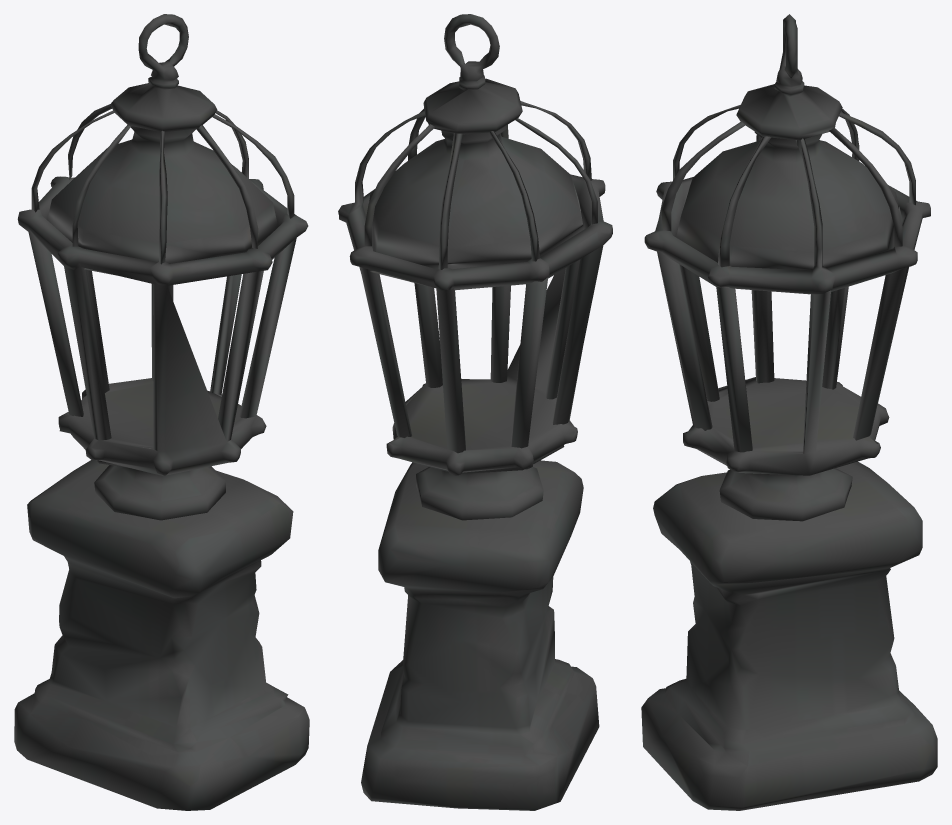
File: wyn_quest_grave_lamp_unlit.glb
3 renders of one model, left to right at view 1: azimuth 30°, elevation 25°; view 2: azimuth 150°, elevation 25°; view 3: azimuth 270°, elevation 25°, orthographic.
Visible parts, largest first — view 1: tripo_node_2daae766-3ae1-4ab7-aa46-2138248c43f9; view 2: tripo_node_2daae766-3ae1-4ab7-aa46-2138248c43f9; view 3: tripo_node_2daae766-3ae1-4ab7-aa46-2138248c43f9.
Part boxes in pixels (<box>): tripo_node_2daae766-3ae1-4ab7-aa46-2138248c43f9: <box>14,14,309,810</box>; tripo_node_2daae766-3ae1-4ab7-aa46-2138248c43f9: <box>338,14,612,810</box>; tripo_node_2daae766-3ae1-4ab7-aa46-2138248c43f9: <box>641,14,937,810</box>.
Bounding box in the file's own units: 0.5031 × 1.5 × 0.5426.
Materials: 1 (1 with a texture image).
